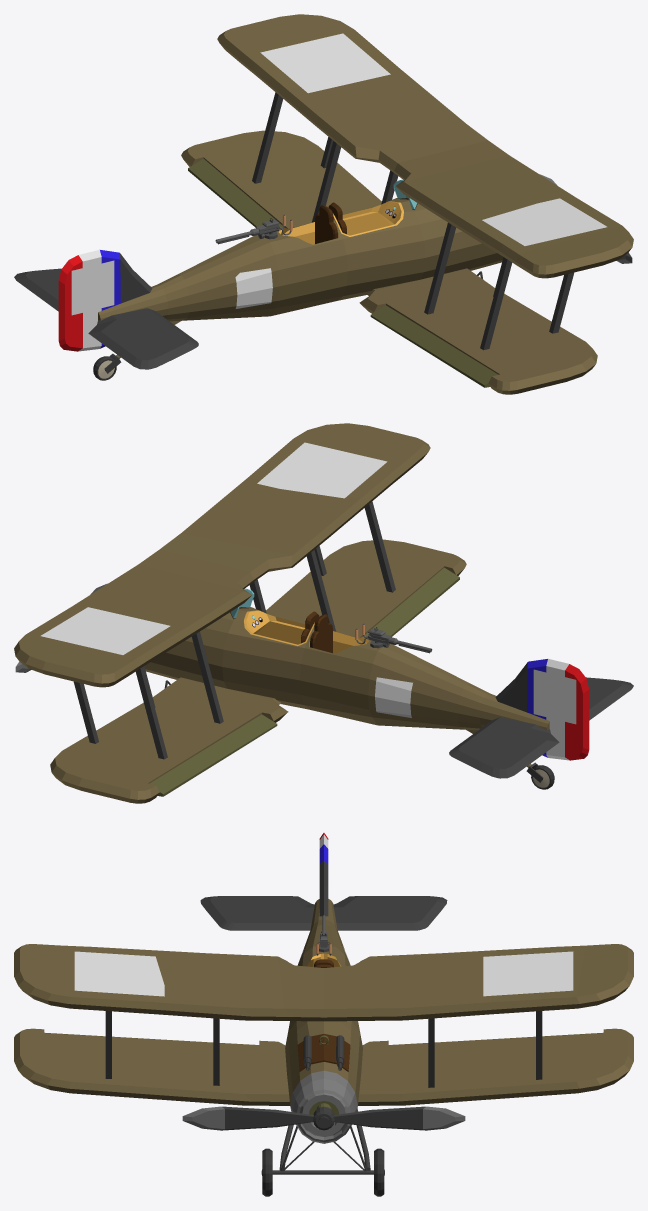
Rendered from WW1 Biplane 2 Seat.fbx.
The picture shows the model from 3 angles, top to bottom: view 1: azimuth 30°, elevation 25°; view 2: azimuth 150°, elevation 25°; view 3: azimuth 270°, elevation 25°; orthographic projection. The views are drawn at different scales.
Visible parts, largest first — view 1: Biplane, Biplane Wing Decal, Right Wingflap, Biplane Tail Decal, Left Wingflap, Biplane Body Decal, Biplane Rear Gun; view 2: Biplane, Biplane Wing Decal, Left Wingflap, Biplane Tail Decal, Right Wingflap, Biplane Body Decal, Biplane Rear Gun; view 3: Biplane, Biplane Wing Decal, Propeller, Biplane Frame, Biplane Wheel.R, Biplane Wheel.L.
Boxes of the visible parts, x1,y1,x2,y2 form: Biplane: [14, 14, 633, 394]; Biplane Wing Decal: [260, 33, 606, 245]; Right Wingflap: [370, 305, 498, 387]; Biplane Tail Decal: [71, 260, 114, 315]; Left Wingflap: [188, 158, 284, 227]; Biplane Body Decal: [235, 268, 272, 308]; Biplane Rear Gun: [215, 214, 292, 244]; Biplane: [14, 423, 633, 803]; Biplane Wing Decal: [41, 442, 387, 654]; Left Wingflap: [150, 714, 277, 796]; Biplane Tail Decal: [533, 669, 576, 724]; Right Wingflap: [363, 567, 459, 636]; Biplane Body Decal: [375, 677, 412, 717]; Biplane Rear Gun: [355, 623, 432, 653]; Biplane: [14, 833, 633, 1143]; Biplane Wing Decal: [74, 951, 573, 996]; Propeller: [182, 1106, 465, 1130]; Biplane Frame: [272, 1108, 373, 1174]; Biplane Wheel.R: [261, 1148, 272, 1196]; Biplane Wheel.L: [374, 1148, 384, 1196].
Size of the model in its own units: 5129 by 2157 by 5765.
